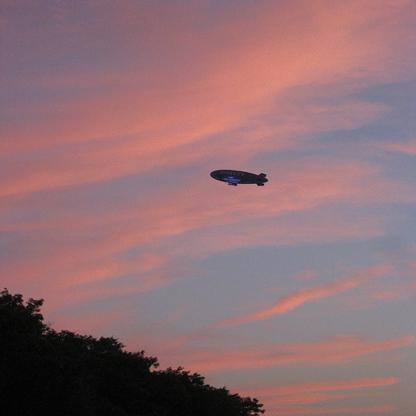Airship: (209, 163, 283, 202)
